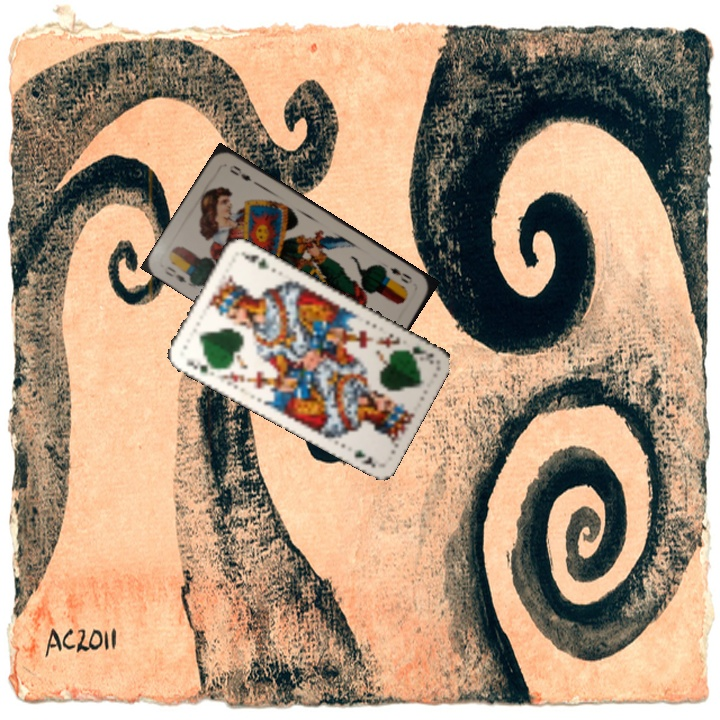EO: (385, 263, 415, 287), (161, 262, 189, 285)
GK: (400, 342, 437, 366), (182, 357, 218, 375)
